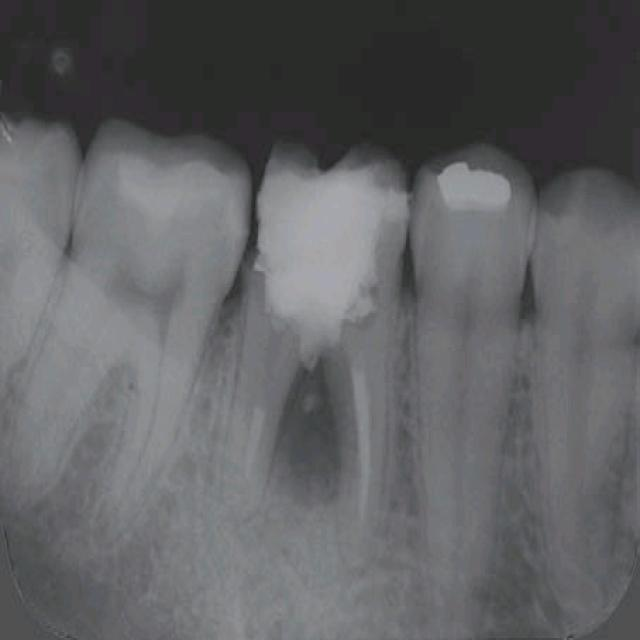Caries: (252, 137, 408, 554)
